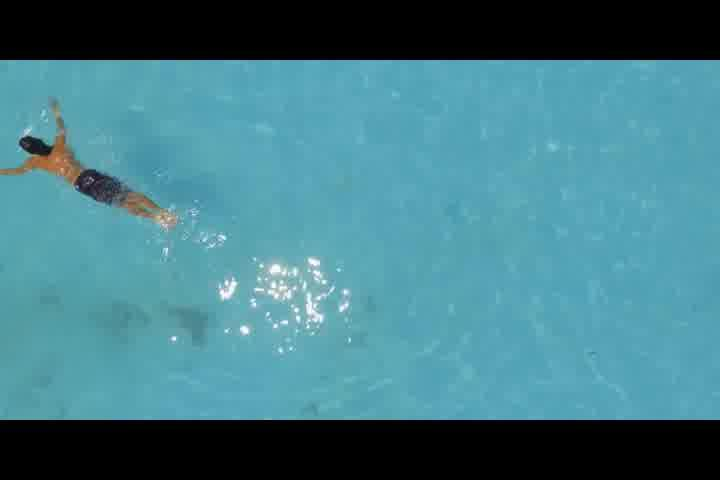human: (0, 96, 182, 227)
